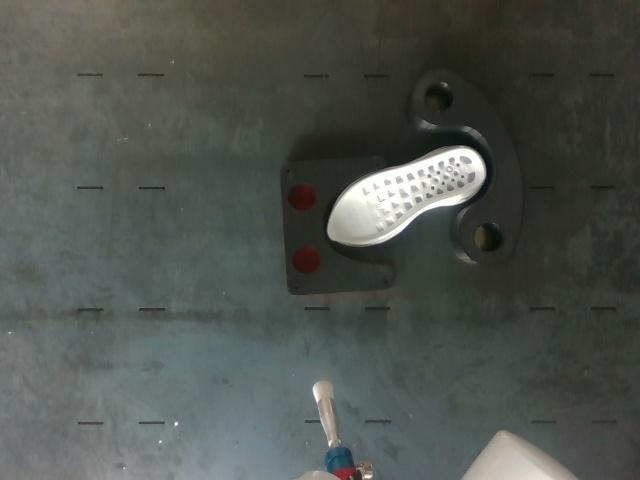shoes: (328, 149, 484, 243)
